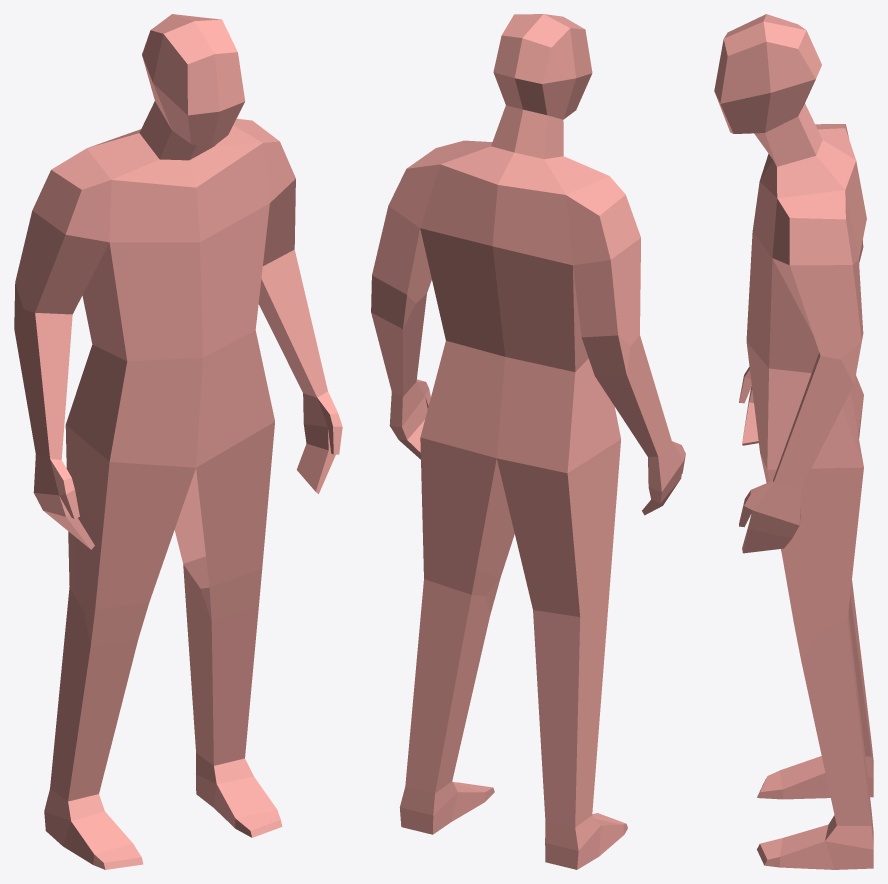
File: GGJ2025_Humano_Rojo.fbx
3 views of the same model, side by side, from view 1: azimuth 30°, elevation 25°; view 2: azimuth 150°, elevation 25°; view 3: azimuth 270°, elevation 25° (orthographic). The views are drawn at different scales.
Parts seen in each view (by area): view 1: Human.001; view 2: Human.001; view 3: Human.001.
Boxes of the visible parts, x1,y1,x2,y2 form: Human.001: (14, 14, 342, 869); Human.001: (371, 14, 685, 869); Human.001: (714, 14, 873, 869).
Size of the model in its own units: 101 by 282 by 50.76.
